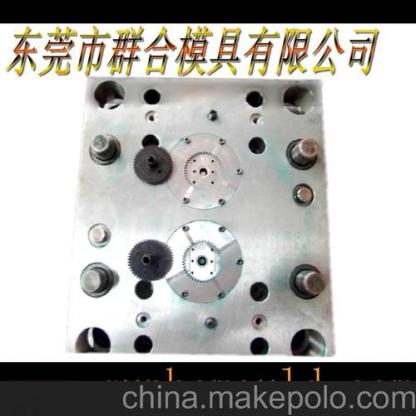FOD: (126, 237, 174, 282), (182, 239, 224, 285)
